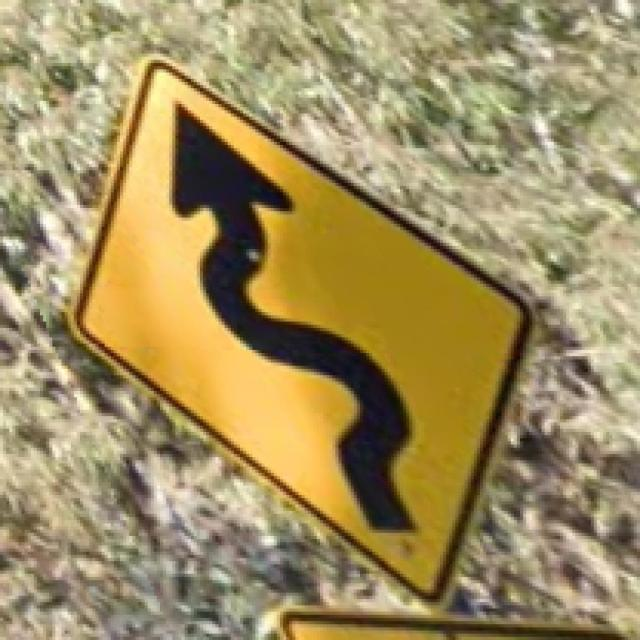Banyak Tikungan Pertama Kanan: (58, 44, 536, 609)
